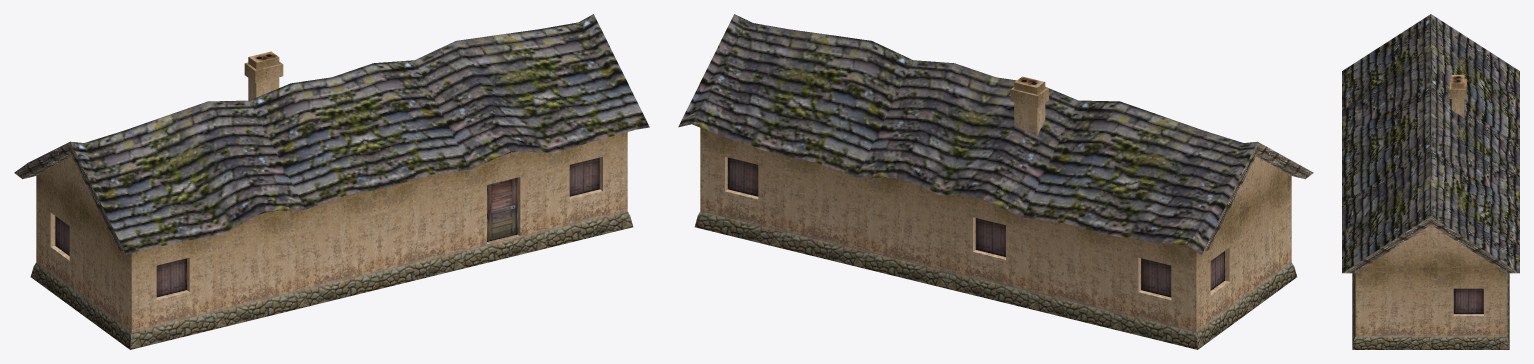
Rendered from s44_b_house_2_3.dae.
3 views of the same model, side by side, from view 1: azimuth 30°, elevation 25°; view 2: azimuth 150°, elevation 25°; view 3: azimuth 270°, elevation 25° (orthographic). The views are drawn at different scales.
Visible parts, largest first — view 1: s44_b_house_1_3; view 2: s44_b_house_1_3; view 3: s44_b_house_1_3.
Boxes of the visible parts, <box> form: s44_b_house_1_3: <box>14,14,649,349</box>; s44_b_house_1_3: <box>678,14,1313,349</box>; s44_b_house_1_3: <box>1342,14,1519,349</box>.
Size of the model in its own units: 152 by 56.55 by 54.08.
1 material, 1 textured.
